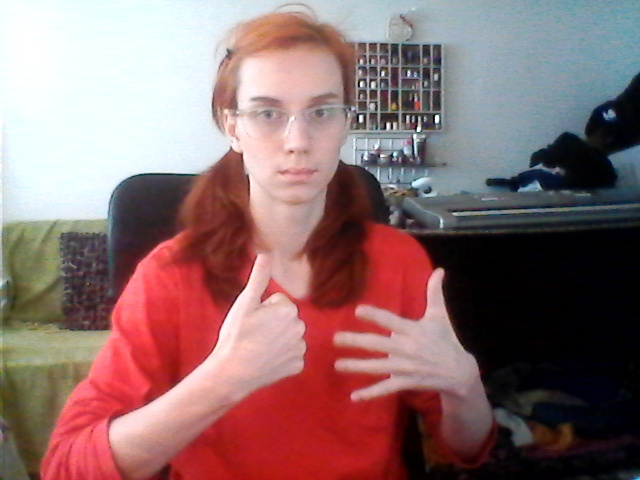sest: (199, 247, 468, 411)
